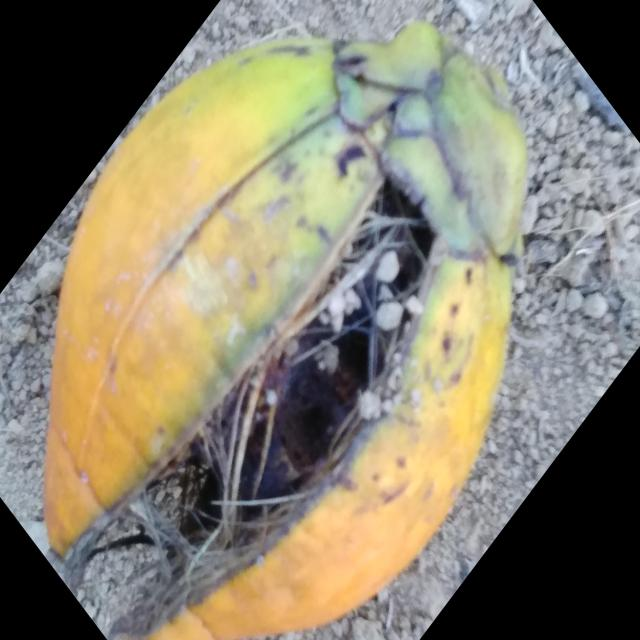damaged: (44, 22, 528, 640)
